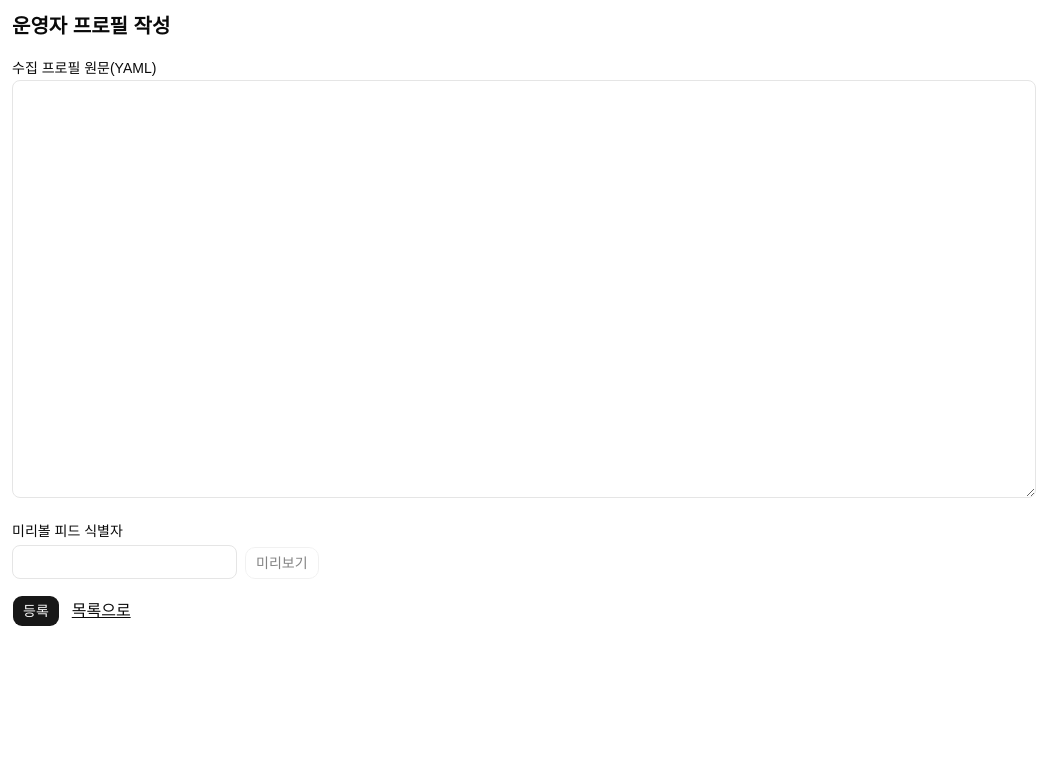
Test: ProfileEditorPage › 원문이 검증에 걸려 등록하지 못하면 새 원문 화면에 머문다
The image size is (1048, 780).
Step 1. Type "script" into the text box labelled "수집 프로필 원문(YAML)" → (524, 289), box [12, 80, 1036, 498]
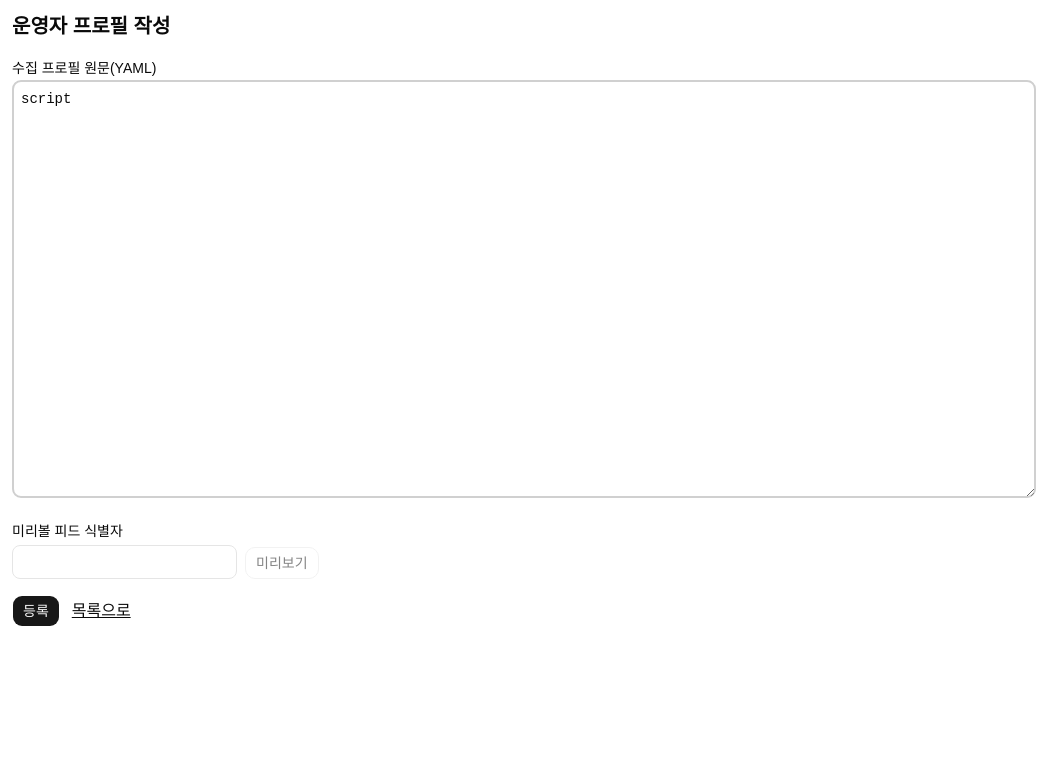
Step 2. Click the button "등록" → (36, 611), box [12, 595, 60, 627]
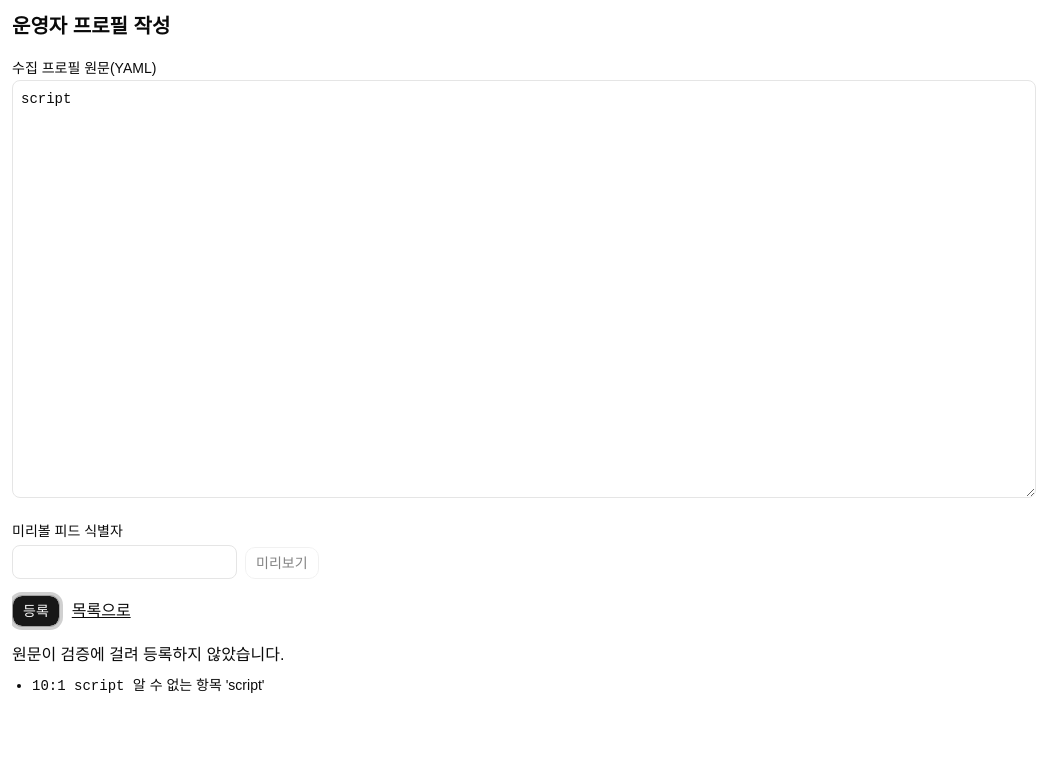
expect the text "원문이 검증에 걸려 등록하지 않았습니다." is shown: met, box [12, 646, 284, 663]
